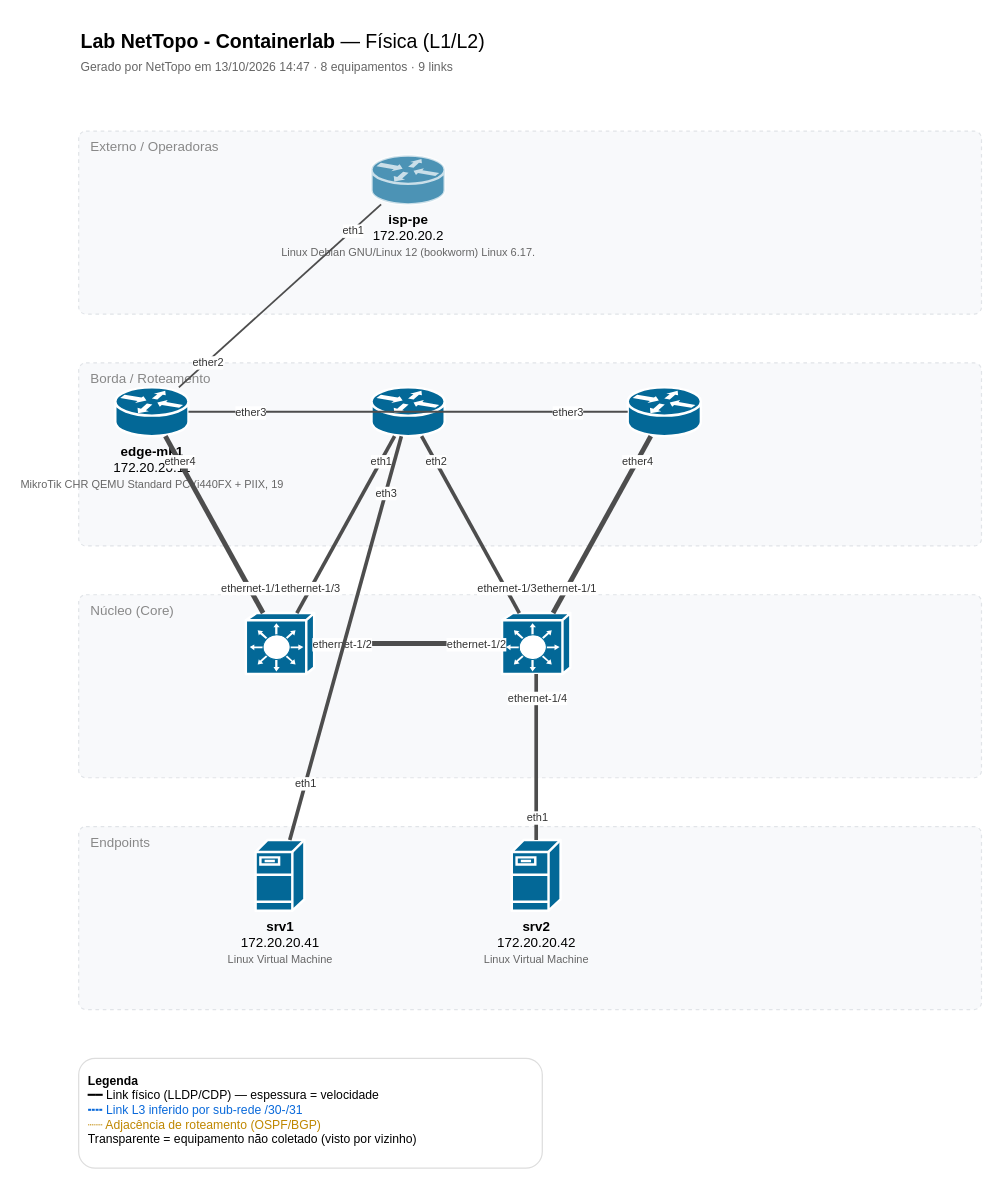
Image size: 1003x1190. Some labels were removed from this diagram. Here are the shapes that lost their labels. From the top down, the centre of each, then its label:
At point (407, 411): "dist-frr1 172.20.20.31 Linux Virtual Machine".
At point (664, 411): "edge-mk2 172.20.20.12 MikroTik CHR QEMU Standard PC (i440FX + PIIX, 19".
At point (279, 643): "core-srl1 172.20.20.21 Nokia 7220 IXR-D2L".
At point (535, 643): "core-srl2 172.20.20.22 Nokia 7220 IXR-D2L".
